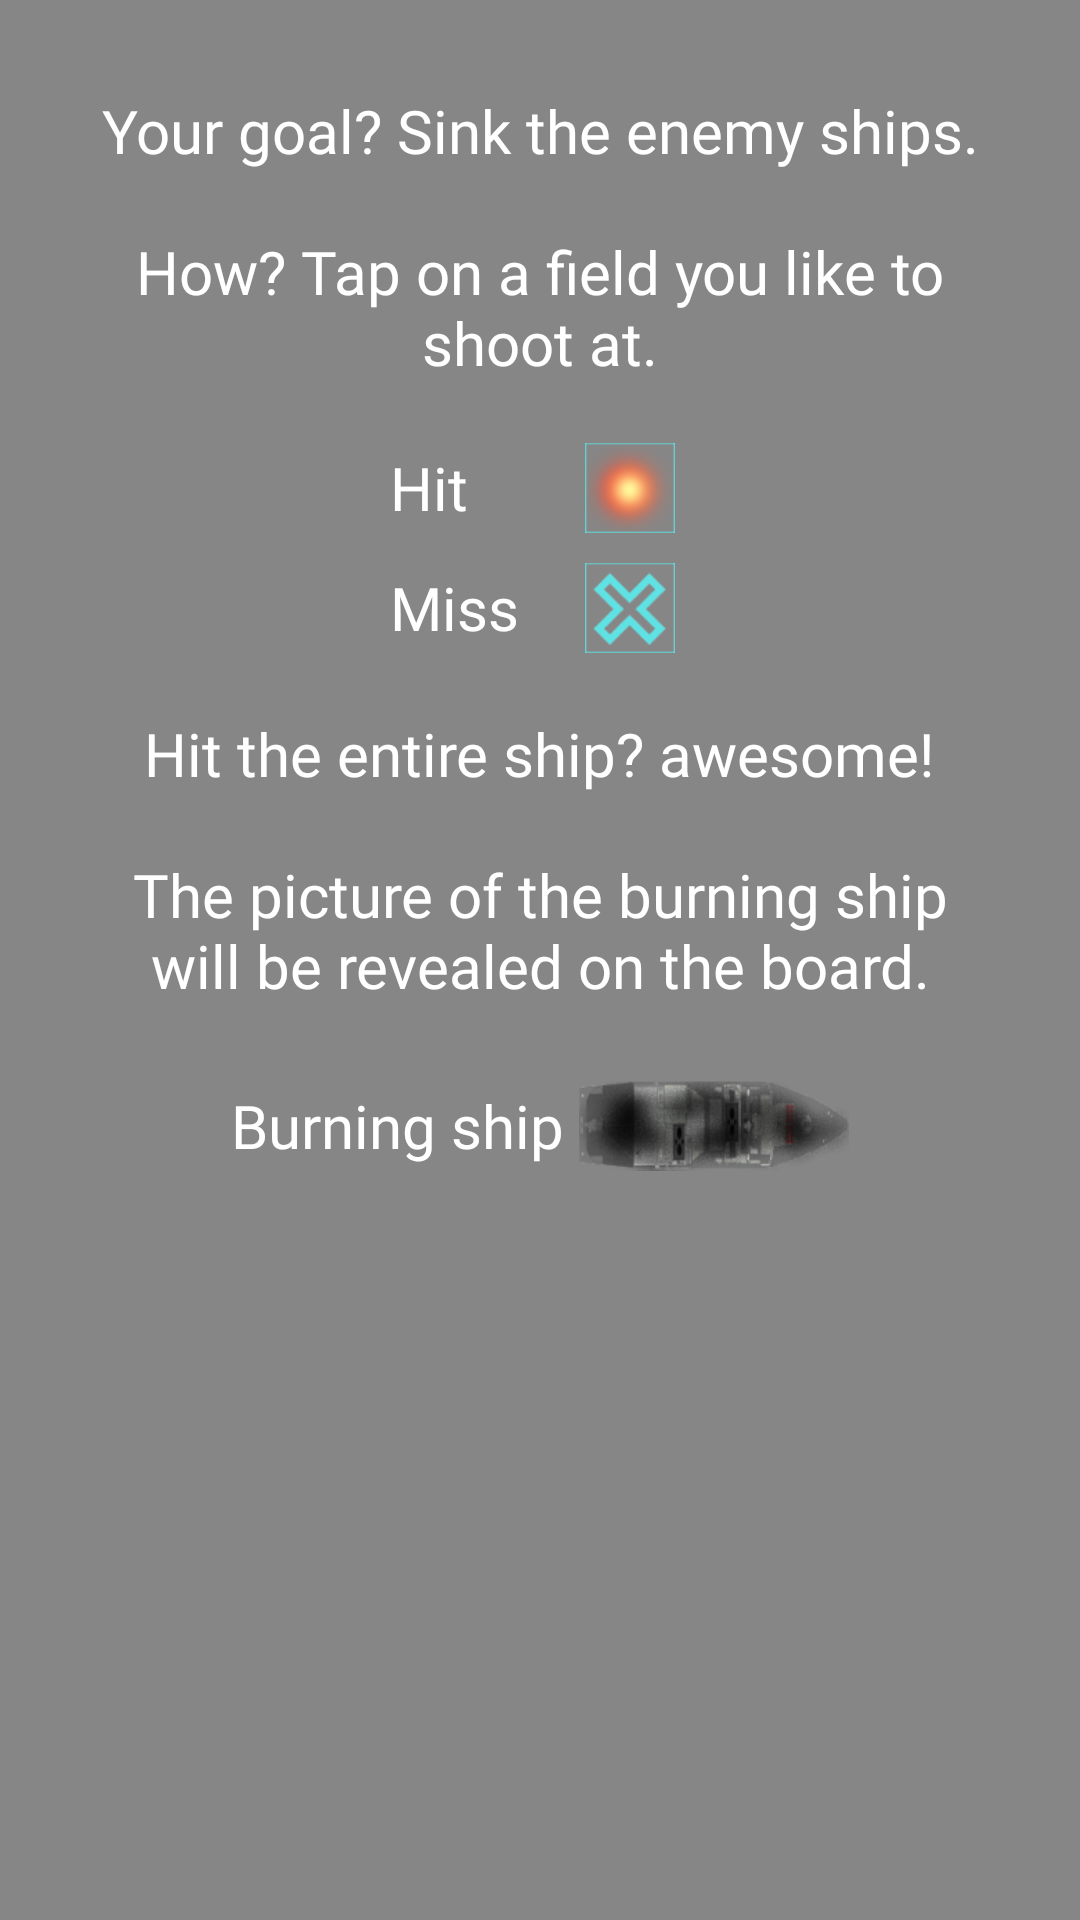

Named icons in this screenshot (1080w x 1920h) and their centers, (x=x, y=y):
full ship: (x=714, y=1126)
